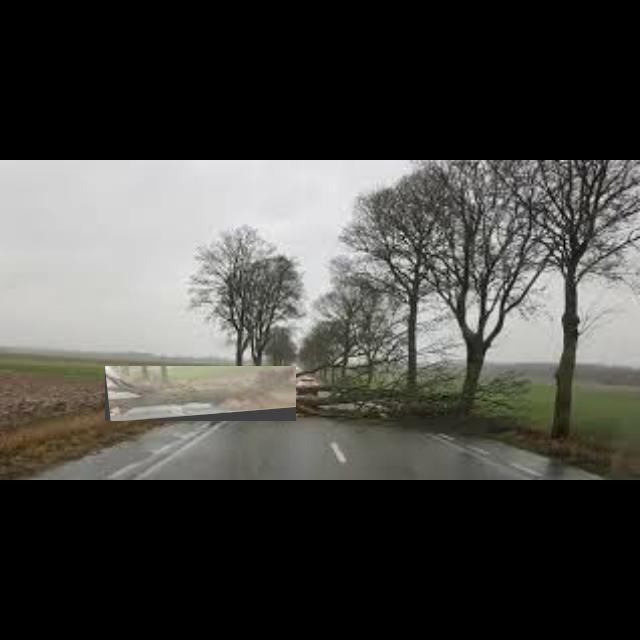fallen_tree: (105, 366, 297, 422)
